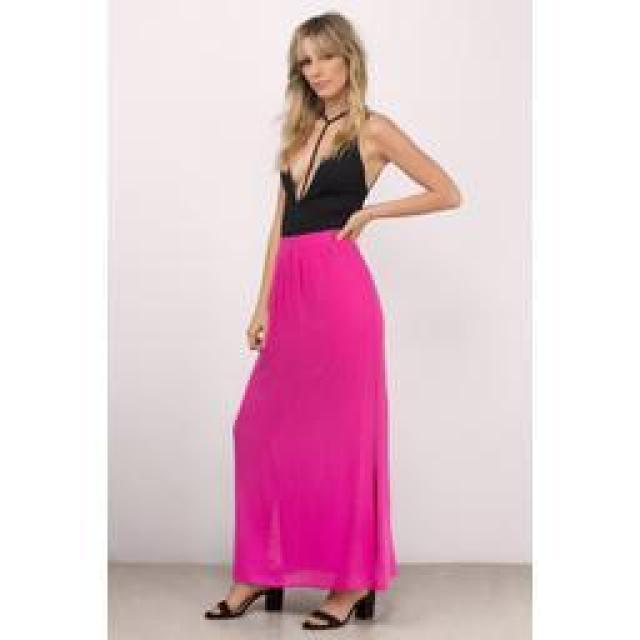Tshirt: (277, 106, 375, 236)
skirt: (230, 228, 400, 592)
